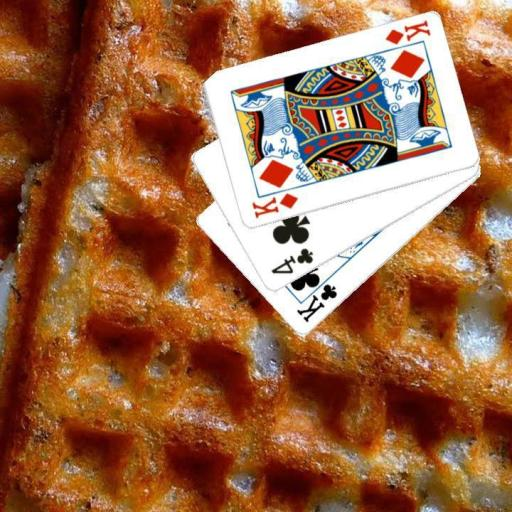card-corner: (293, 272, 338, 324), (248, 190, 300, 220), (382, 17, 432, 47), (267, 245, 315, 276)
